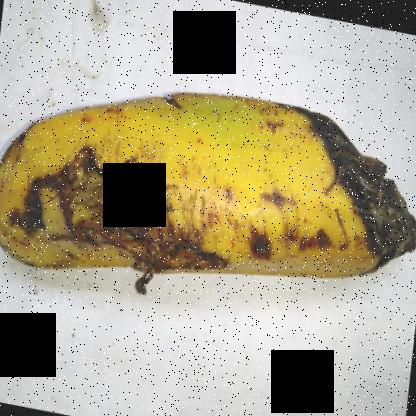rotten: (0, 136, 231, 310), (298, 77, 416, 317)
